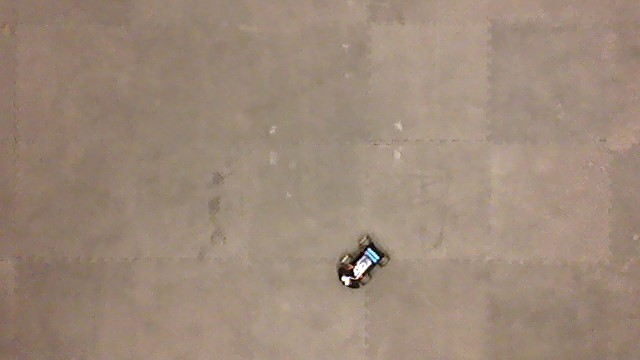Agent: (335, 234, 391, 290)
